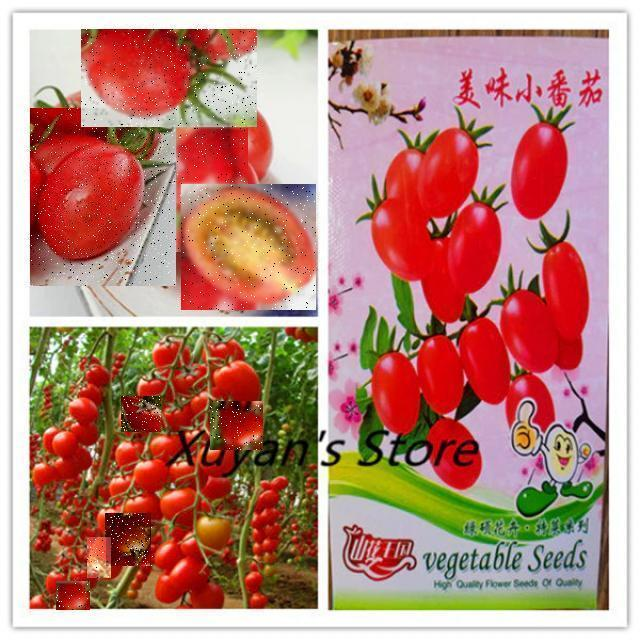Tomatoes: (30, 108, 176, 286), (81, 29, 257, 127), (181, 184, 316, 310), (151, 98, 249, 252), (210, 401, 263, 450), (106, 513, 154, 566), (121, 396, 161, 432), (56, 581, 90, 610), (87, 537, 111, 578)
